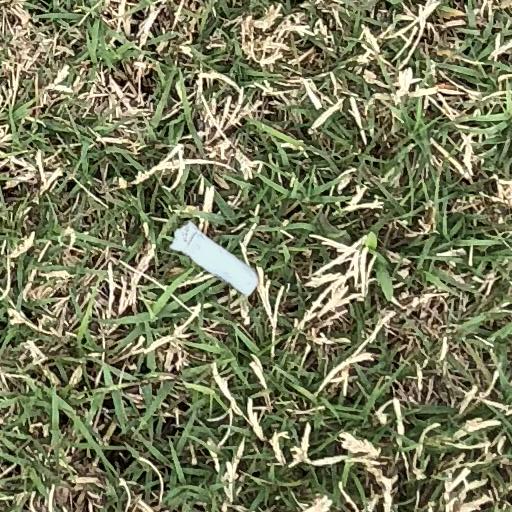cig_butt: (218, 248, 302, 345)
